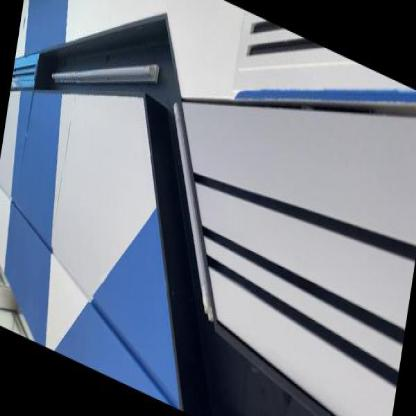light_off: (141, 58, 254, 342), (44, 0, 167, 144)
